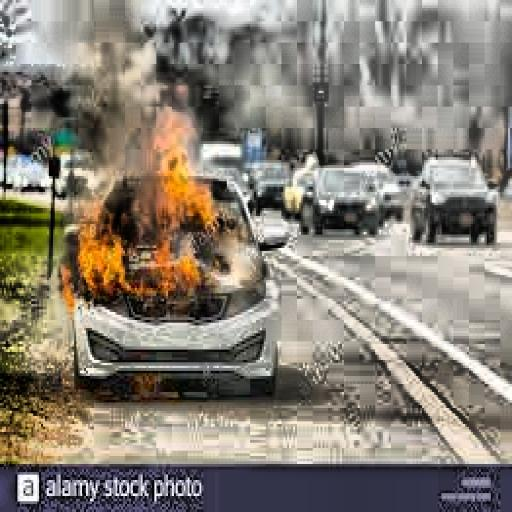fire: (64, 114, 228, 306)
